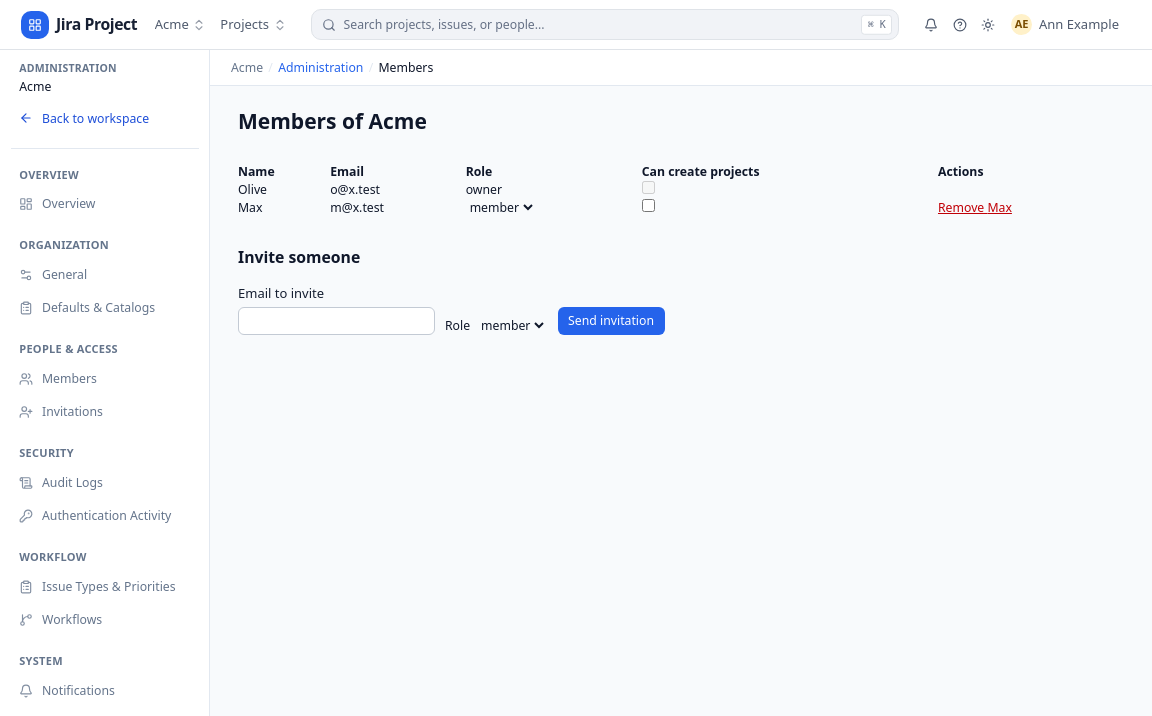
it: OrgMembersPage (admin) › cannot edit owners, can change roles, grant creation and invite
Check: the cell "Max" is shown, box [238,198,330,217]
Select "admin" in the dropdown named "Role of Max" at coordinates (501, 208), box [466,198,536,217]
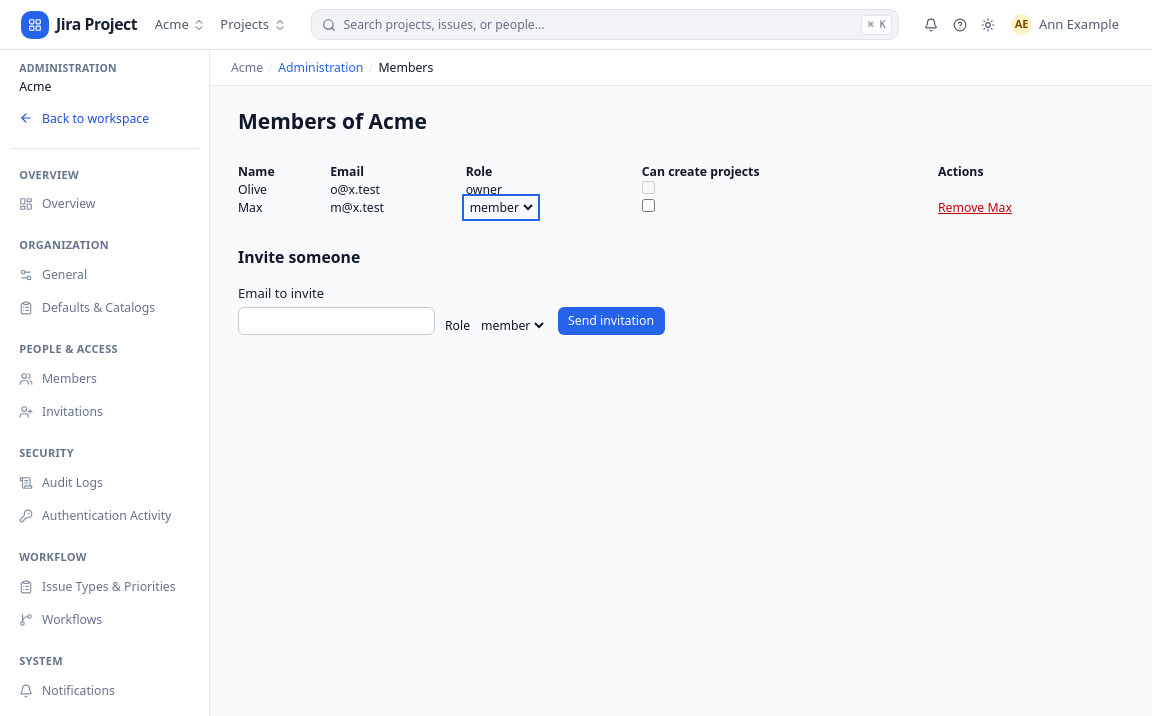
Click the checkbox named "Max can create projects" at coordinates (648, 205), box [642,199,655,212]
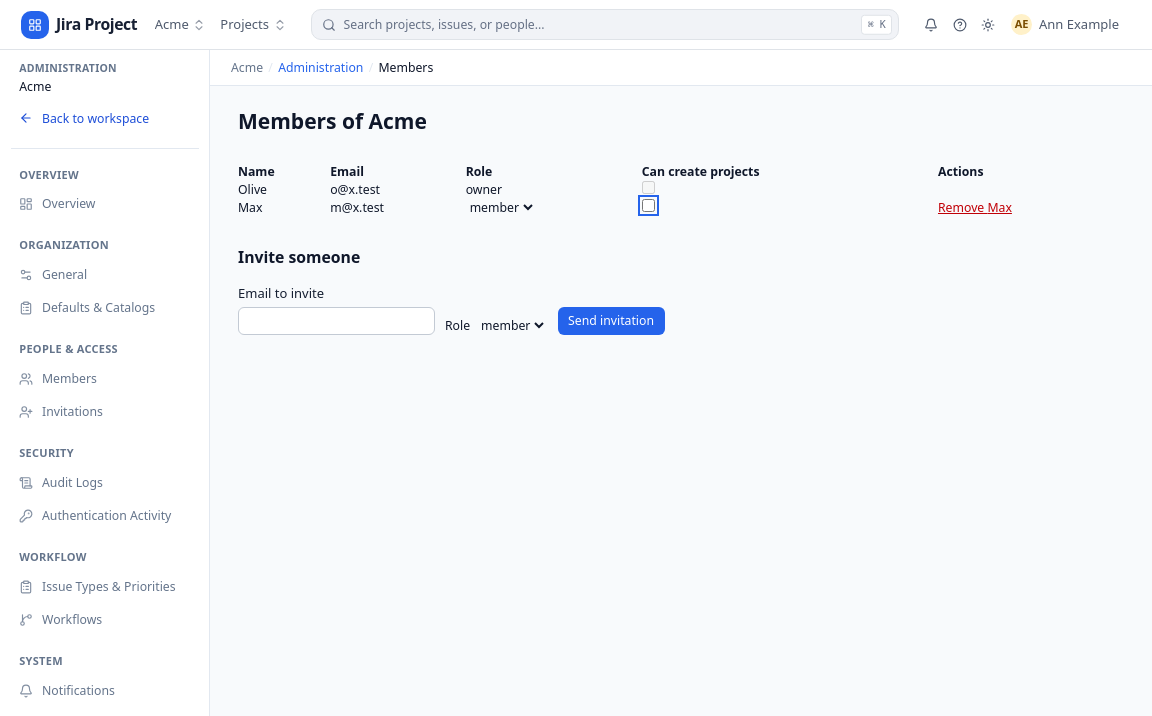
Type "new@x.test" into the field labelled "Email to invite" at coordinates (336, 320), box [238,306,434,334]
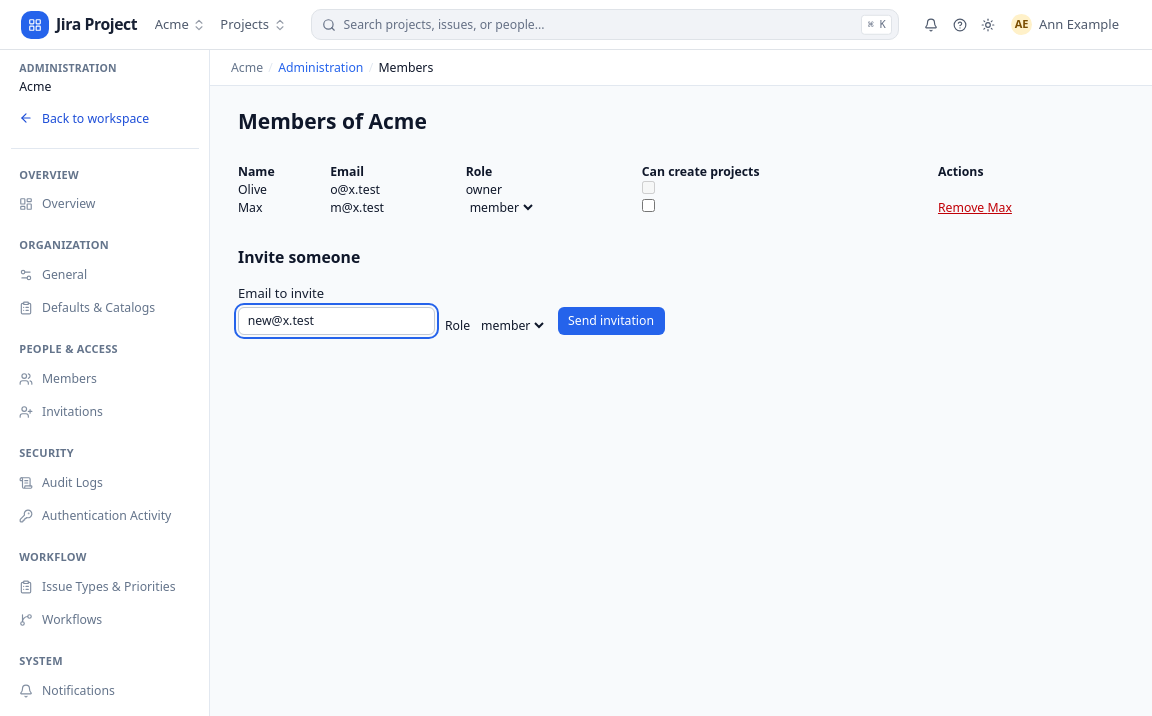
Click the button "Send invitation" at coordinates (611, 320), box [558,306,664,334]
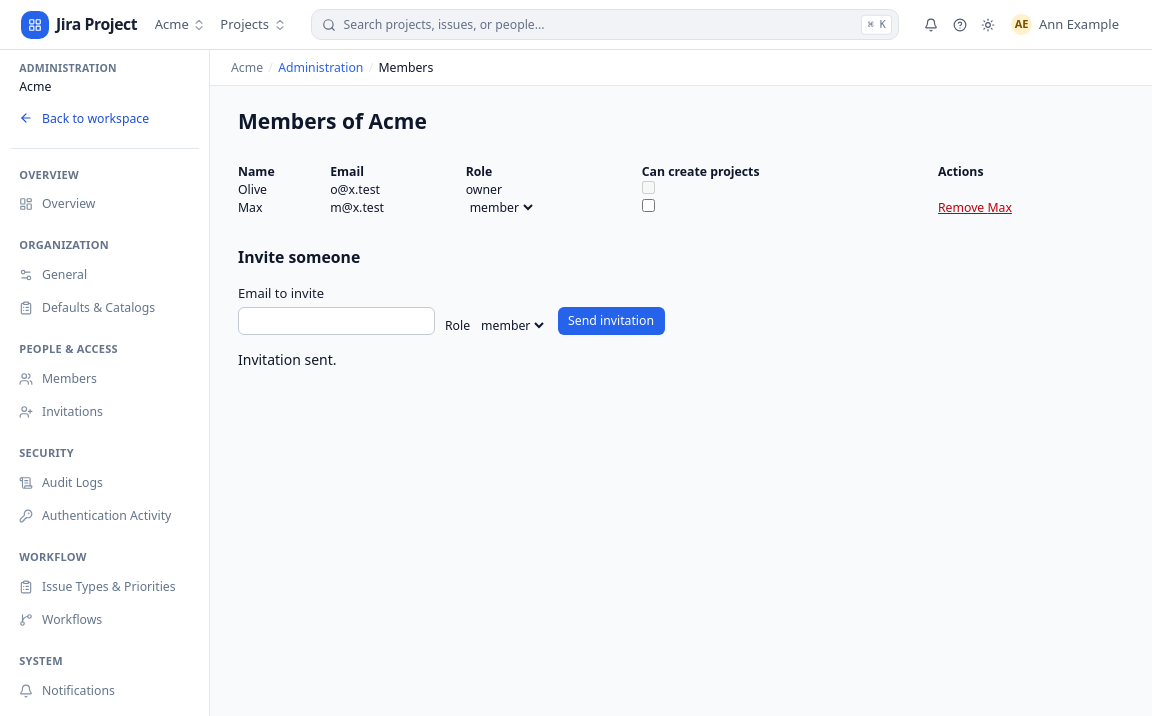
Check: the text "Invitation sent." is shown, box [238,350,336,368]
